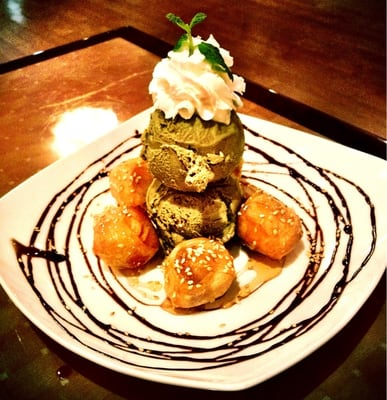curry: (0, 7, 387, 400)
sushi: (142, 11, 247, 193)
